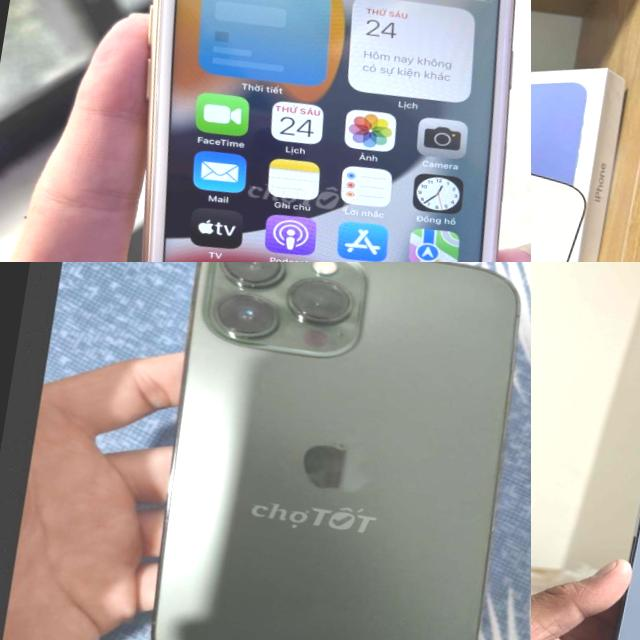gen_12_13: (118, 262, 531, 640), (580, 455, 640, 640)
gen_14: (531, 137, 596, 262)
gen_7_8: (73, 0, 531, 262)
